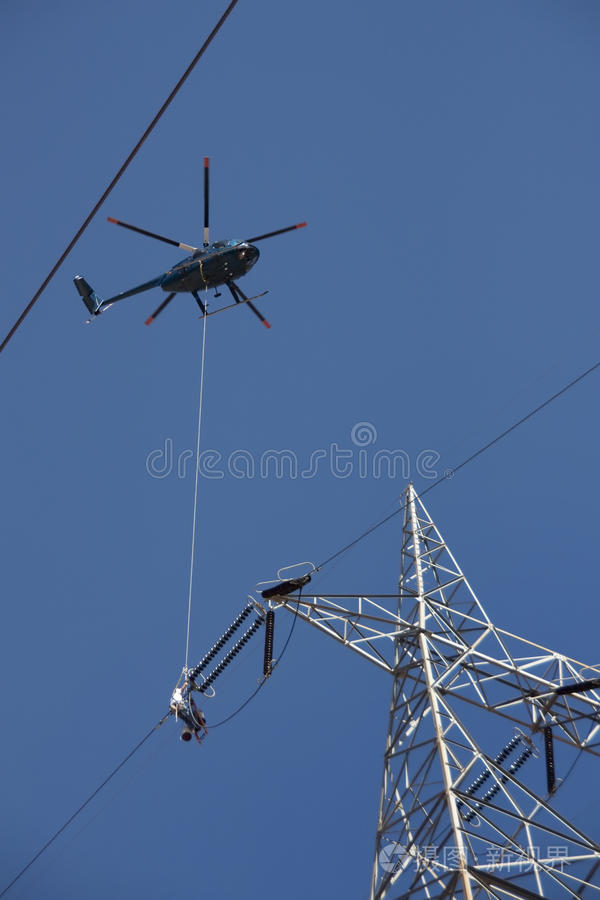insulator: (462, 747, 533, 827), (198, 613, 267, 695), (187, 602, 252, 679), (456, 731, 521, 807), (540, 724, 564, 792), (264, 612, 277, 680)
